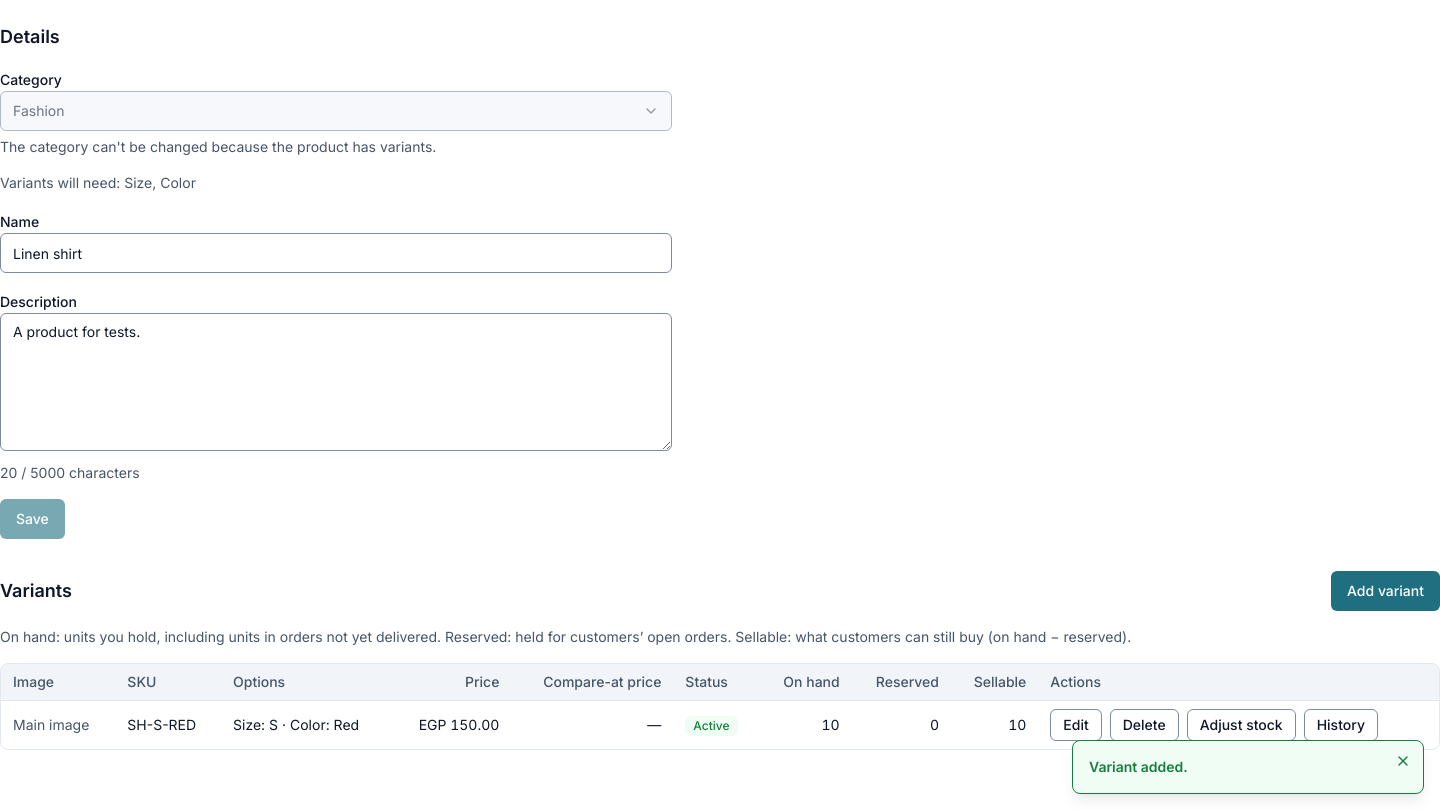
Test: variant form, create (spec 02 SE-11) › an incomplete option set is never sent
The width and height of the screenshot is (1440, 810).
(page scrolled)
Click the button "Add variant": (1386, 591) [1331, 571, 1439, 611]
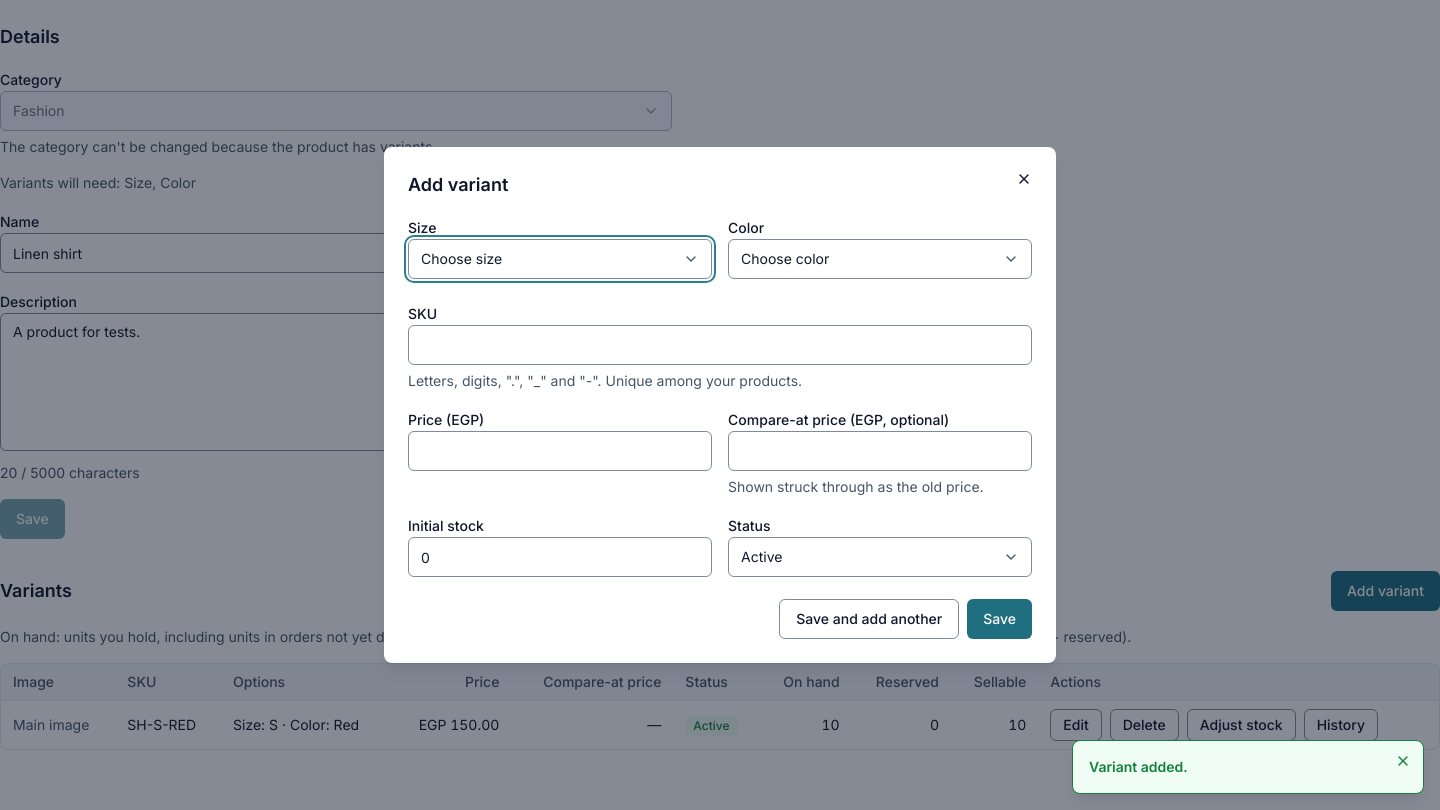
Click the dropdown labelled "Choose size": (462, 258) [408, 239, 712, 279]
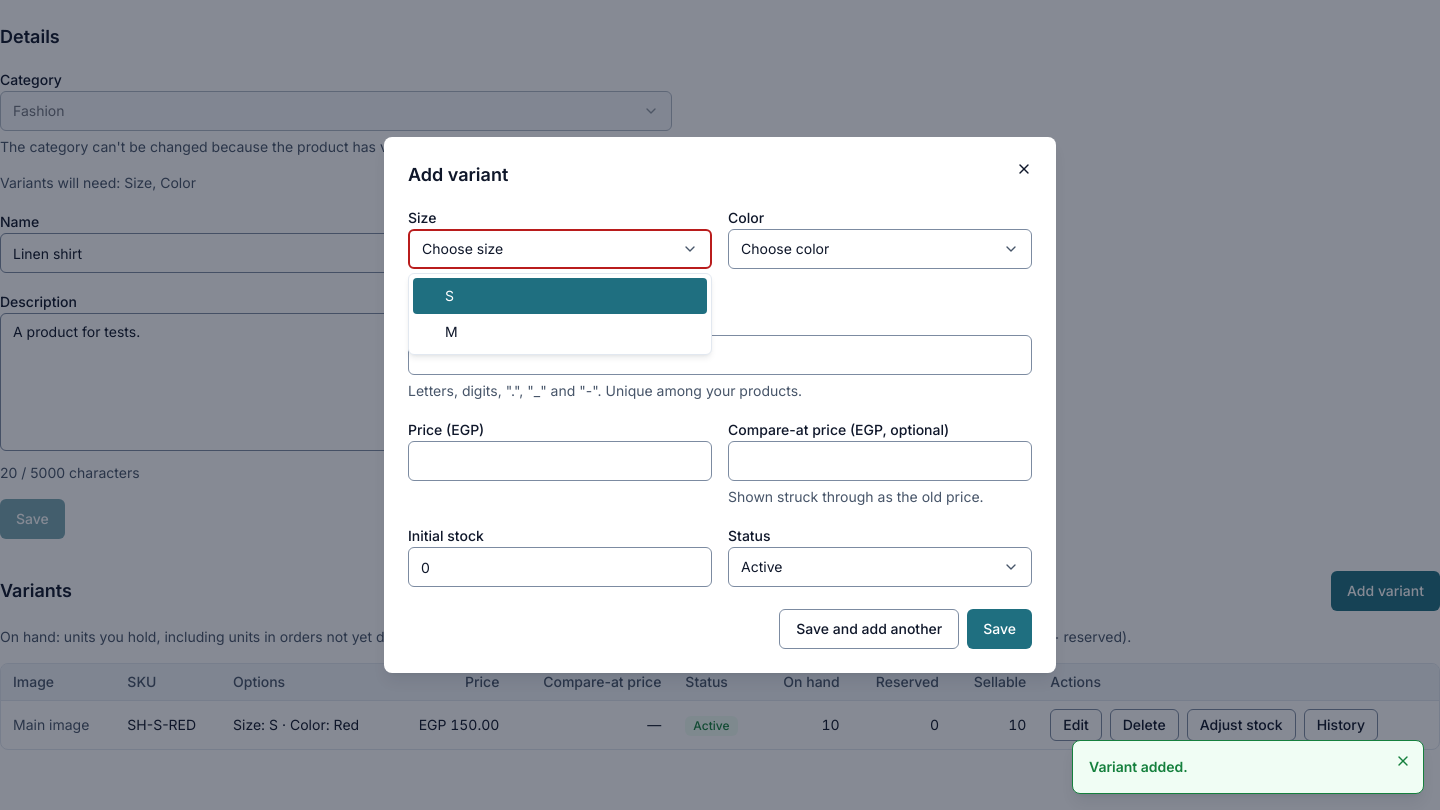
Click the option "M": (451, 332) [445, 323, 458, 340]
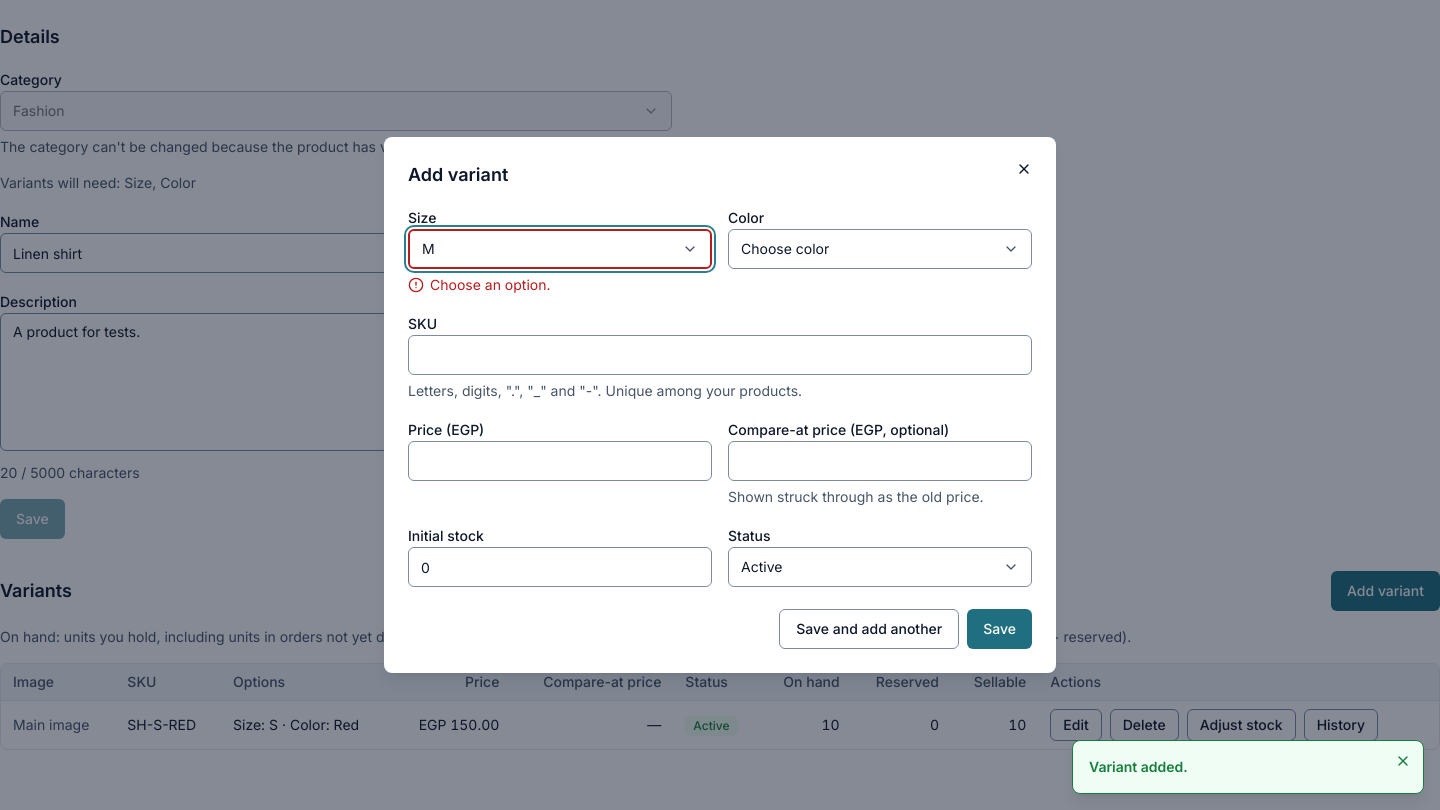
In the field labelled "SKU": (720, 355) [408, 335, 1032, 375], type "SH-M-RED"
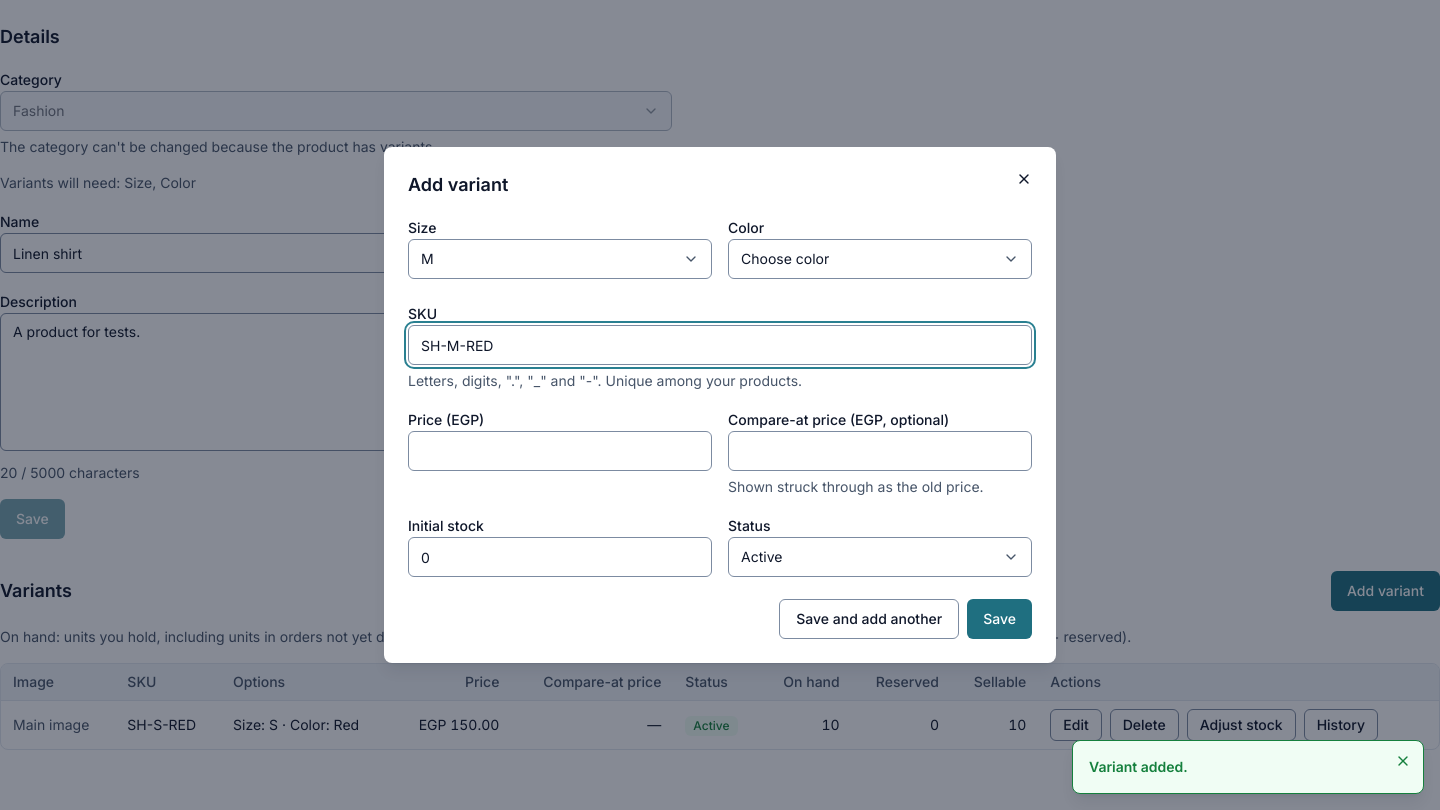
In the field labelled "Price (EGP)": (560, 451) [408, 431, 712, 471], type "150"
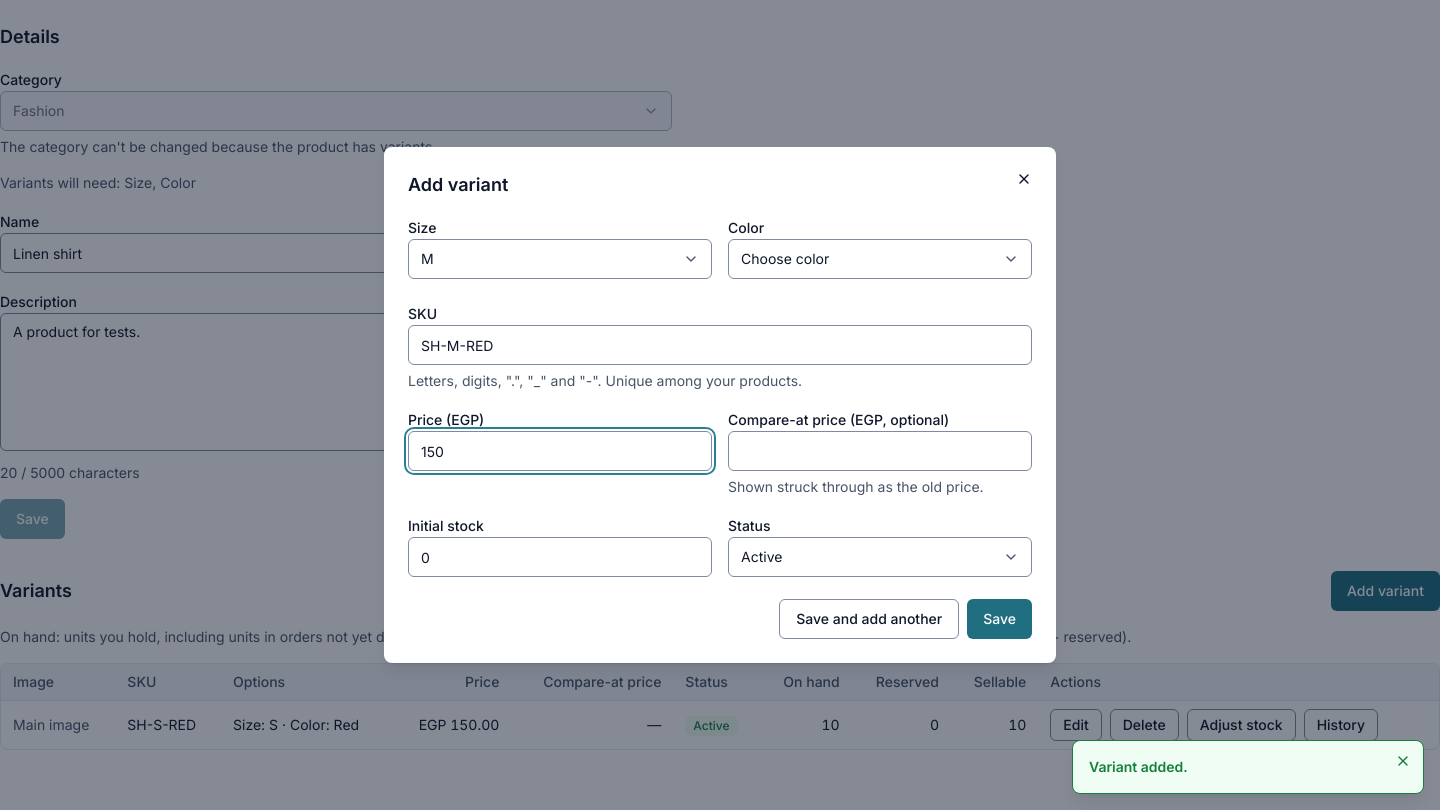
Click the button "Save": (1000, 619) [967, 599, 1032, 639]
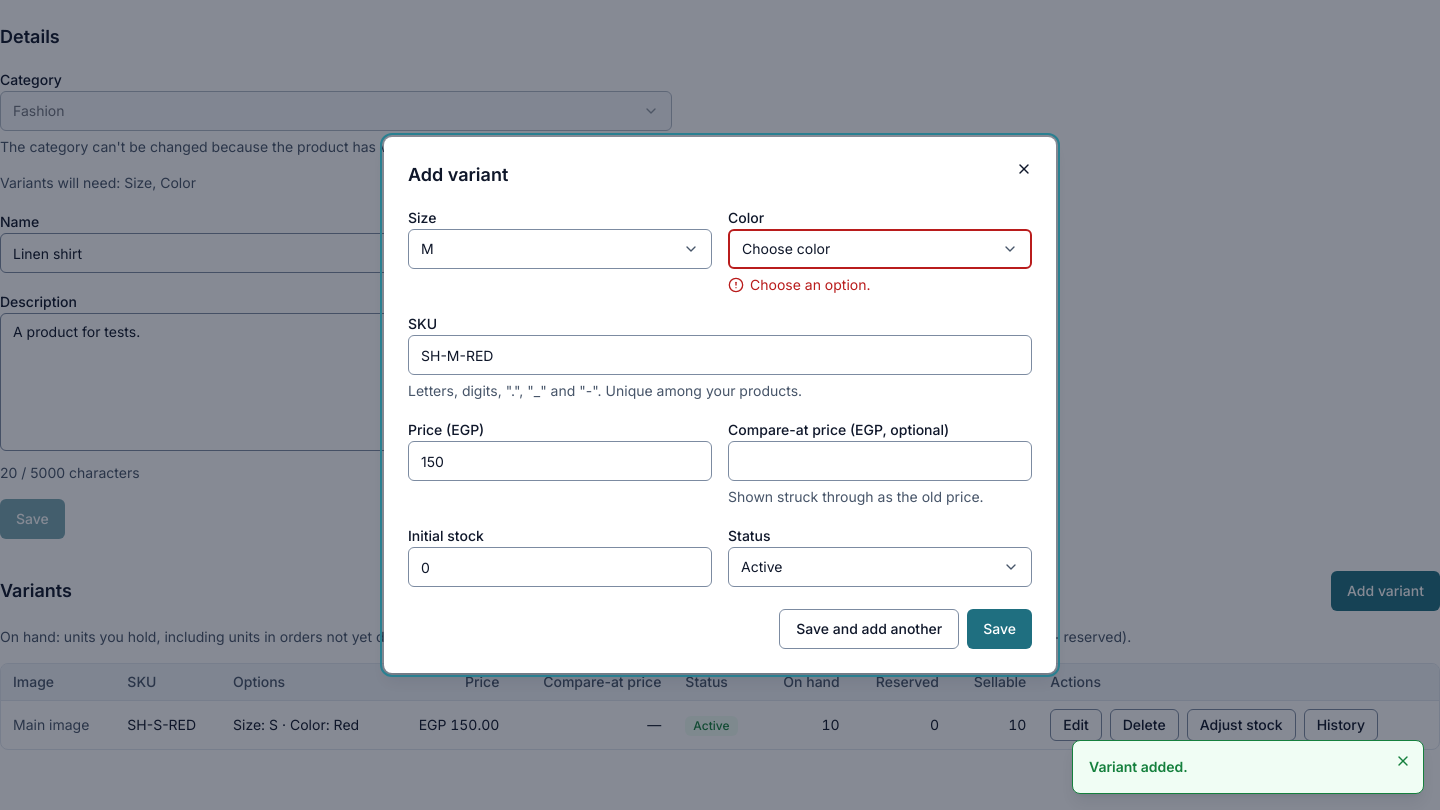
Expected: the text "Choose an option." is shown, [728, 276, 870, 293]
